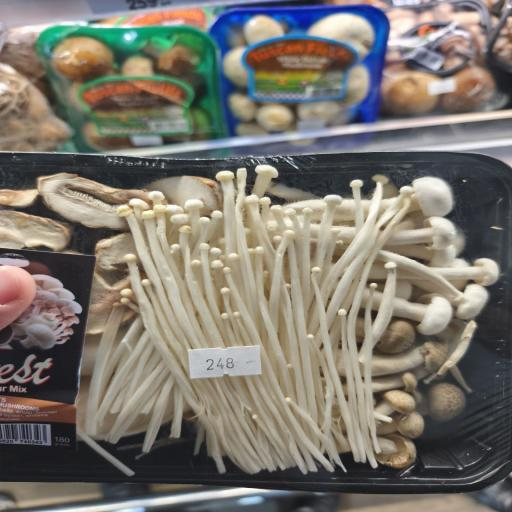Enoki Mushroom: (99, 150, 419, 487)
